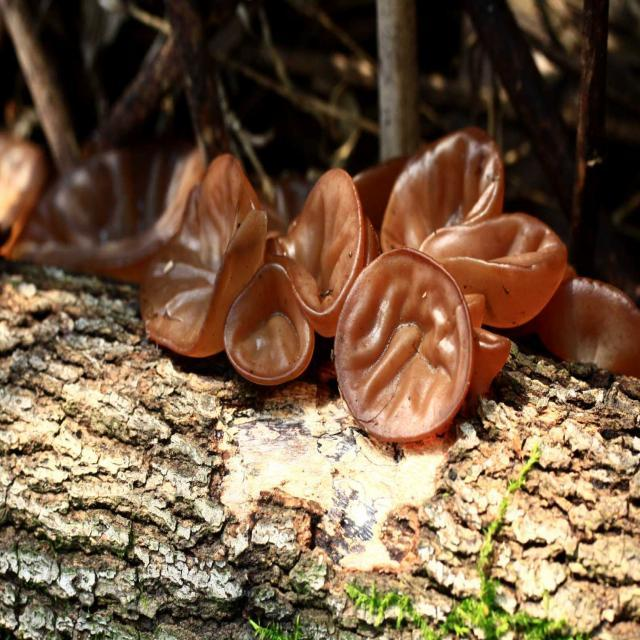Auricularia auricula: (0, 128, 570, 444)
